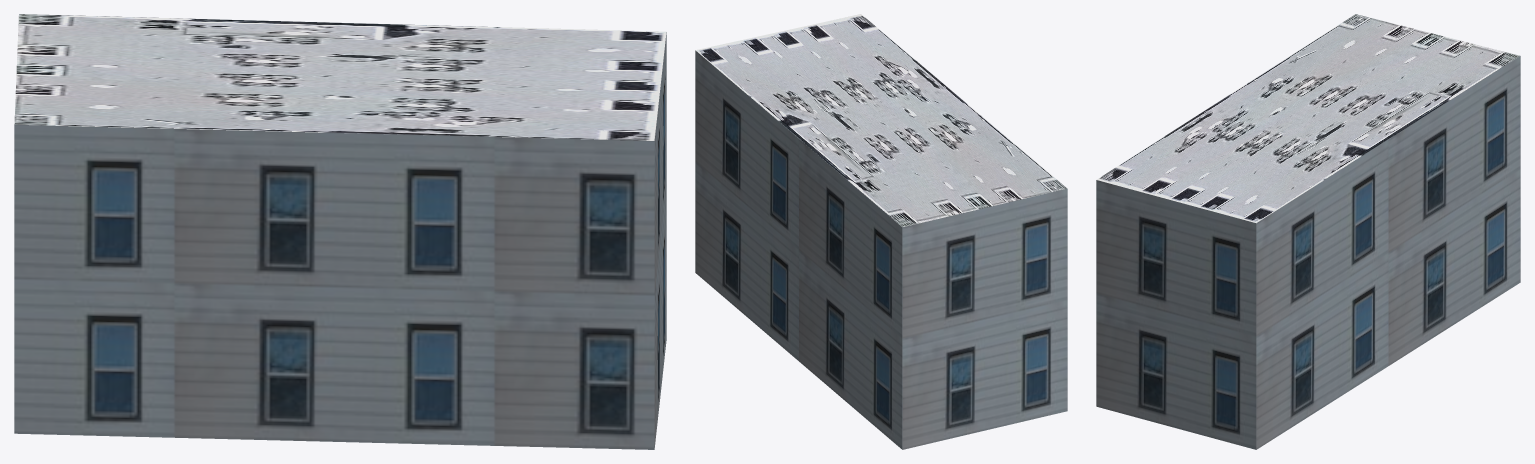
File: ResTex__4993.fbx
3 views of the same model, side by side, from view 1: azimuth 30°, elevation 25°; view 2: azimuth 150°, elevation 25°; view 3: azimuth 270°, elevation 25° (orthographic). The views are drawn at different scales.
Parts seen in each view (by area): view 1: CityEngineMaterial_18_m, CityEngineMaterial_8_m; view 2: CityEngineMaterial_18_m, CityEngineMaterial_8_m; view 3: CityEngineMaterial_18_m, CityEngineMaterial_8_m.
Part boxes in pixels (box(x1,y1,x2,y2)): CityEngineMaterial_18_m: box(14, 32, 666, 449); CityEngineMaterial_8_m: box(14, 14, 666, 140); CityEngineMaterial_18_m: box(695, 50, 1067, 449); CityEngineMaterial_8_m: box(695, 14, 1066, 227); CityEngineMaterial_18_m: box(1096, 56, 1520, 449); CityEngineMaterial_8_m: box(1097, 14, 1520, 223).
Bounding box in the file's own units: 11.88 × 6 × 10.18.
2 materials, 2 textured.
